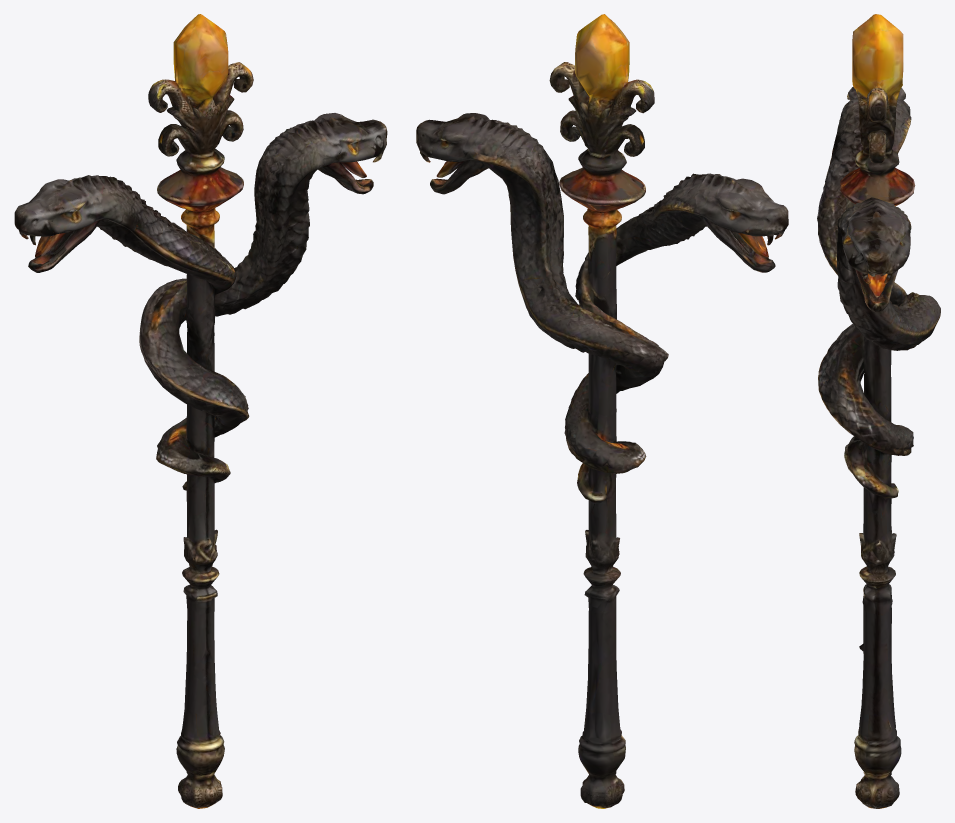
Rendered from my_serpent.glb.
3 views of the same model, side by side, from view 1: azimuth 30°, elevation 25°; view 2: azimuth 150°, elevation 25°; view 3: azimuth 270°, elevation 25° (orthographic).
Bounding box in the file's own units: 0.9278 × 1.9 × 0.2697.
1 material, 1 textured.
